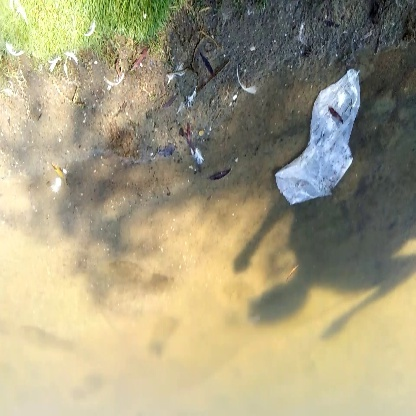plastic-bag: (272, 70, 366, 209)
